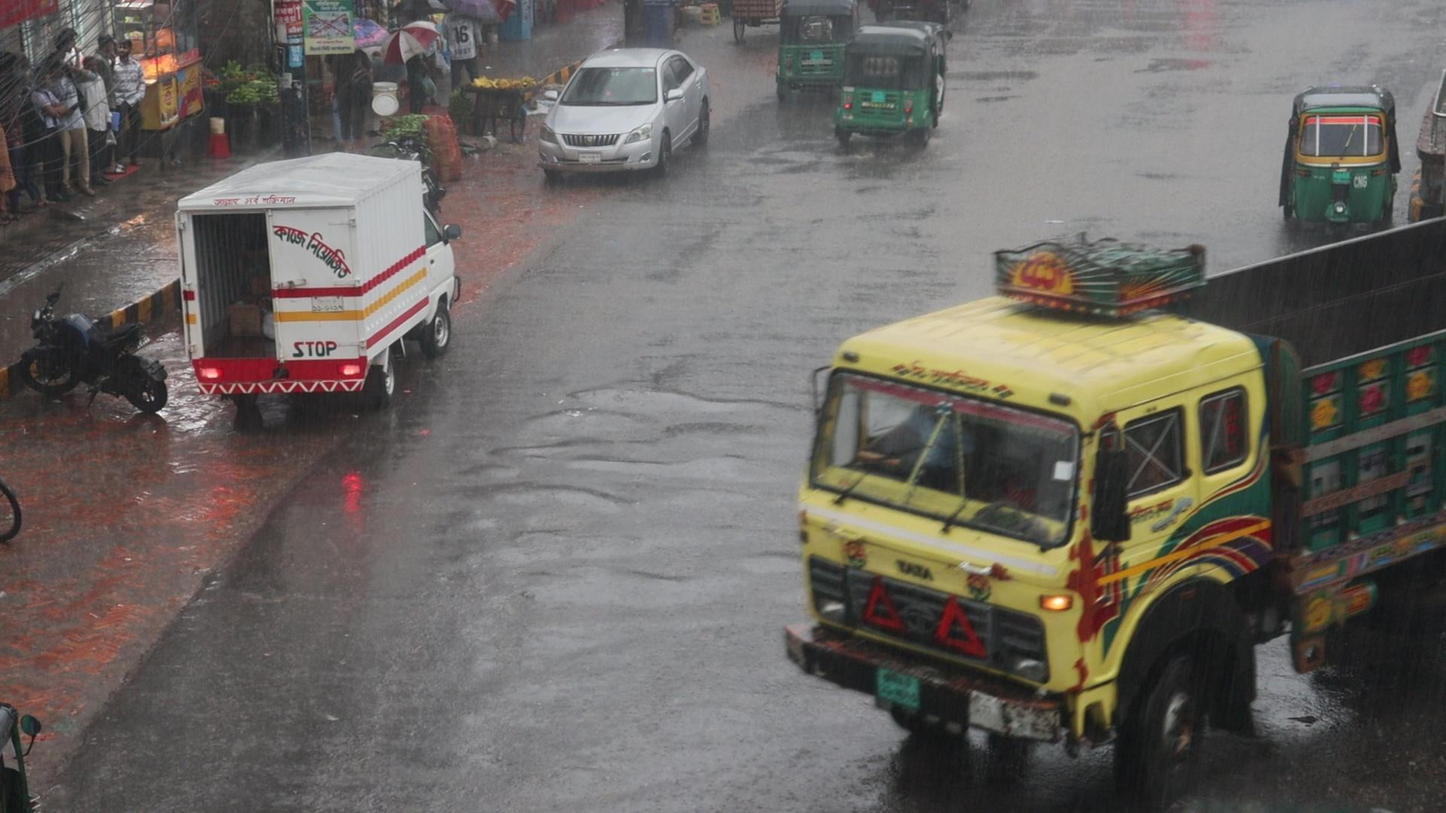Truck: (777, 215, 1446, 813)
